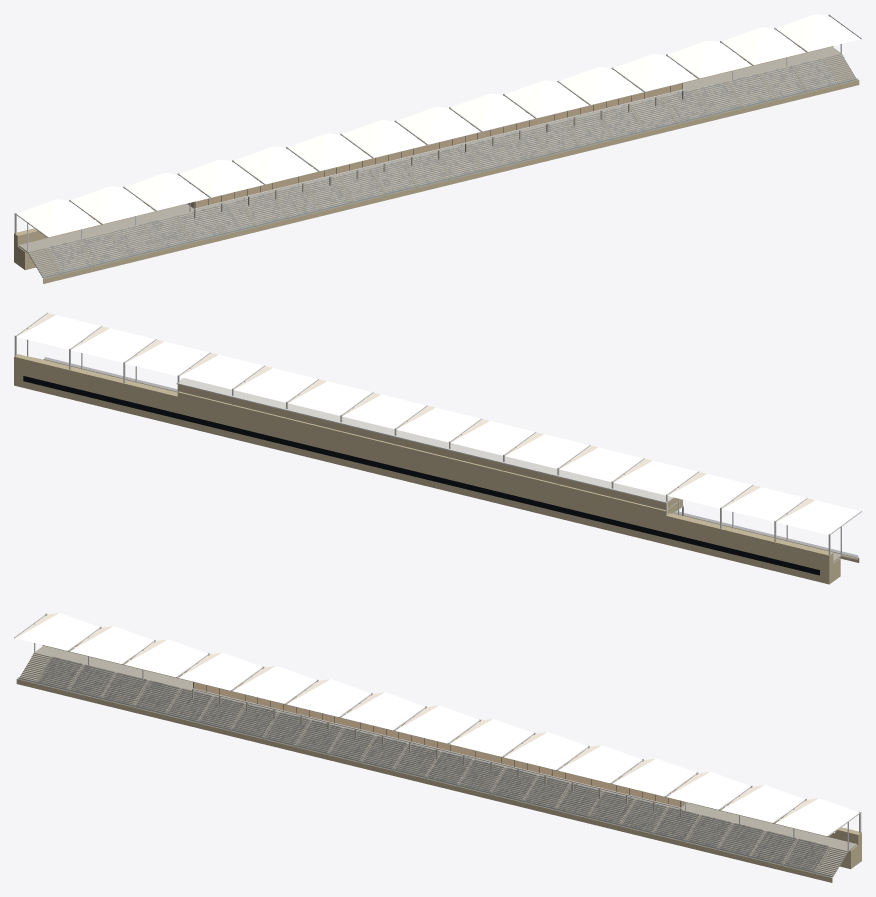
The model's file is yas_stand_c.glb.
3 renders of one model, top to bottom at view 1: azimuth 30°, elevation 25°; view 2: azimuth 150°, elevation 25°; view 3: azimuth 330°, elevation 25°, orthographic.
Visible parts, largest first — view 1: yas-main-grandstand; view 2: yas-main-grandstand; view 3: yas-main-grandstand.
Part boxes in pixels (x1,y1,x2,y2): yas-main-grandstand: [14, 14, 861, 283]; yas-main-grandstand: [14, 312, 861, 584]; yas-main-grandstand: [14, 613, 861, 882].
Size of the model in its own units: 382 by 29.22 by 27.
